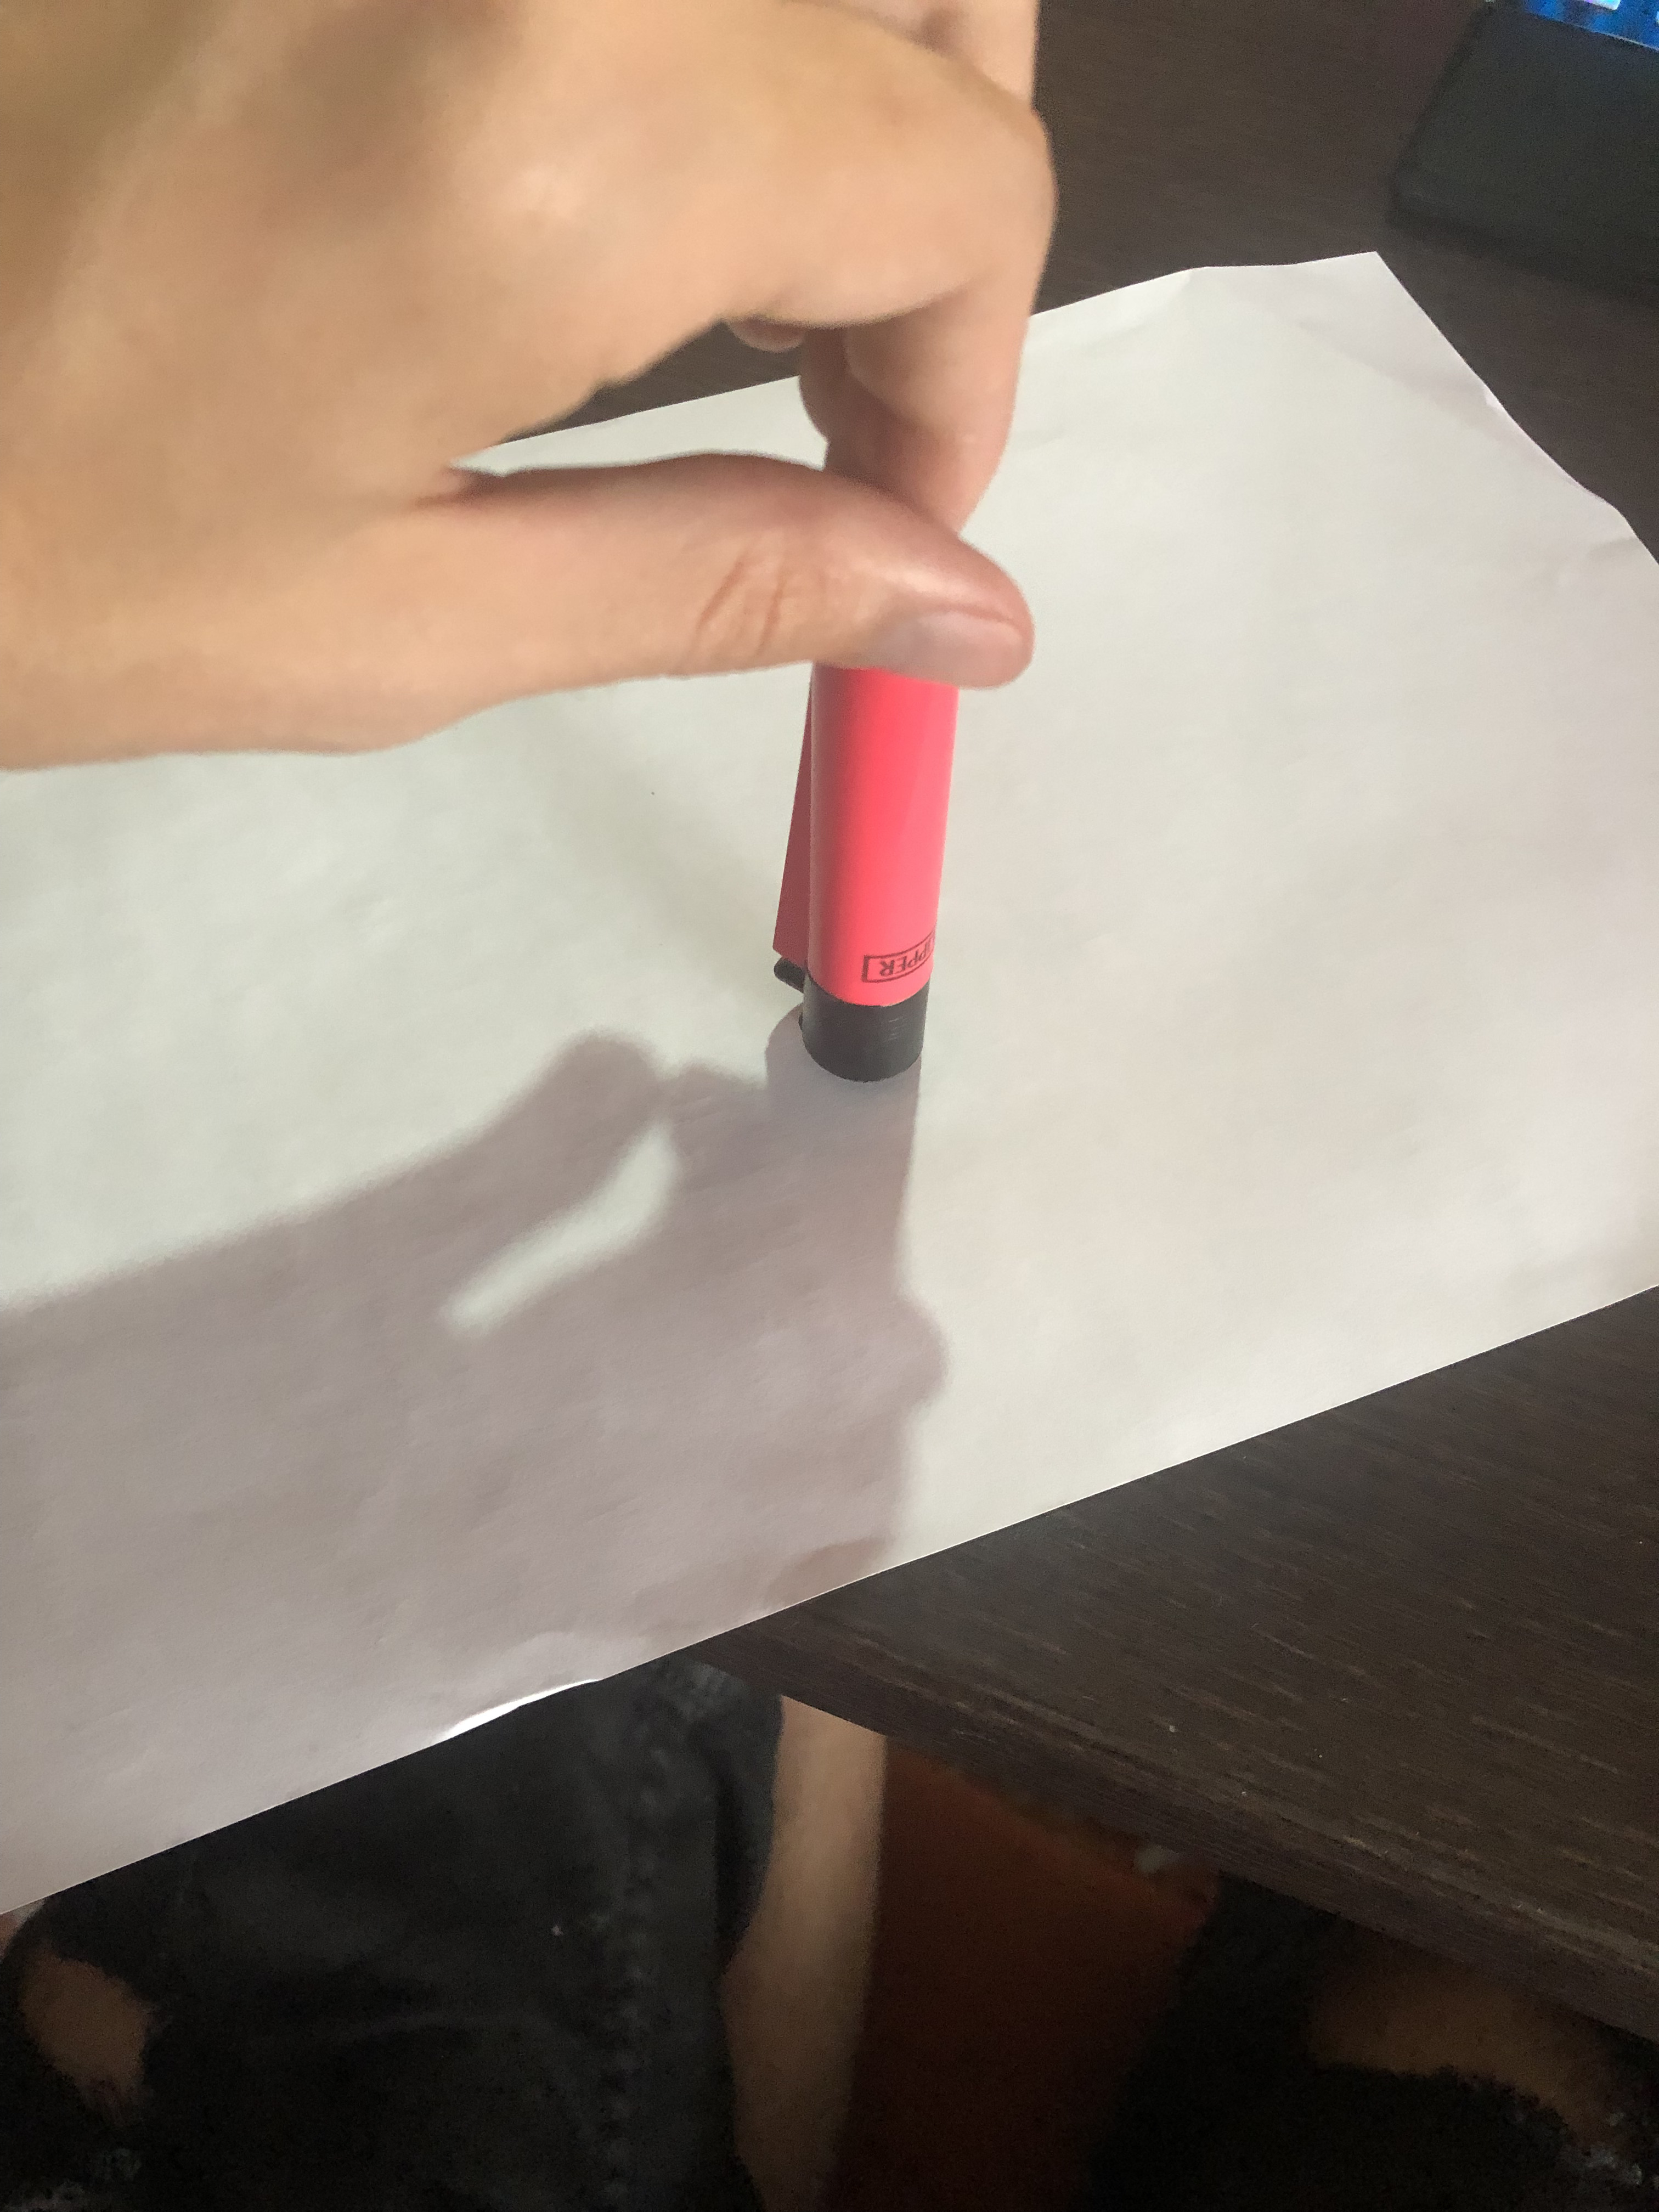Mechero: (756, 676, 985, 1103)
